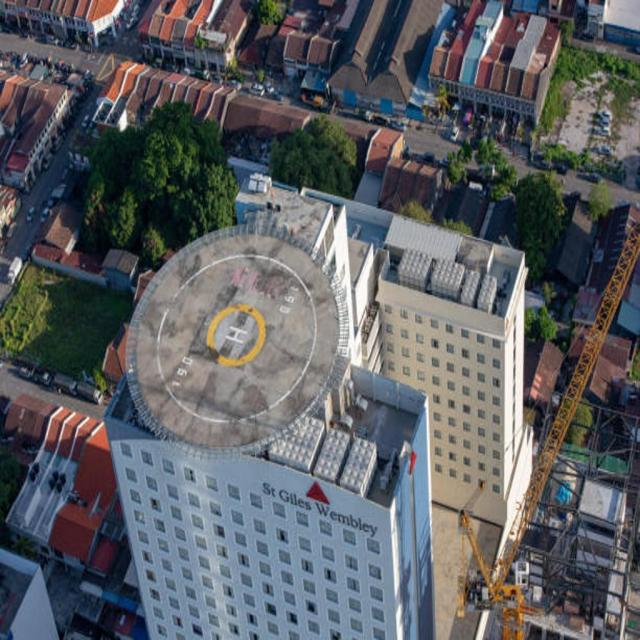helipad: (206, 302, 266, 366)
